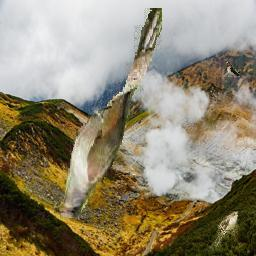Cuckoo: (54, 9, 162, 220), (208, 211, 238, 251)
Swallow: (226, 61, 241, 78)
